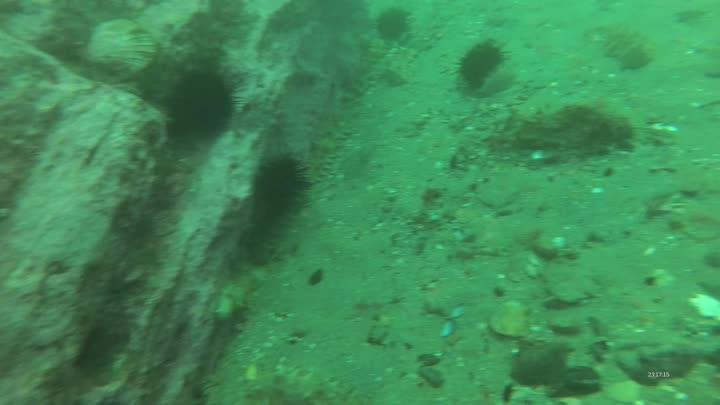urchin: (171, 67, 241, 132), (246, 152, 309, 216), (450, 34, 508, 85), (373, 4, 414, 43)
